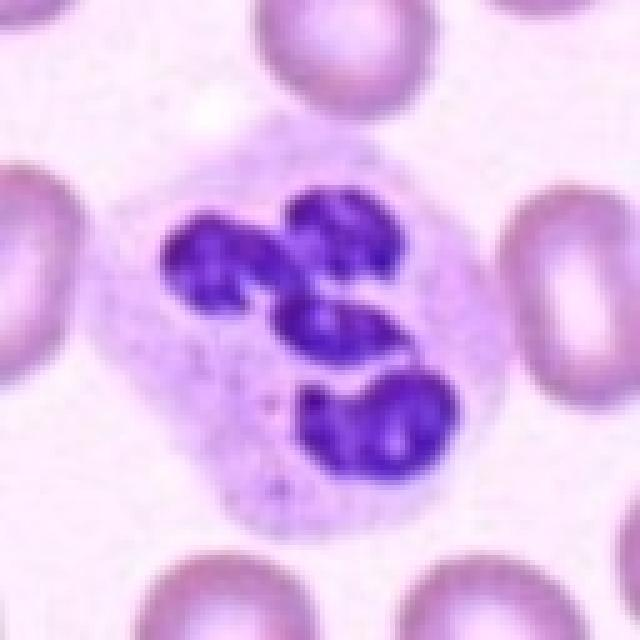neutro: (109, 130, 566, 517)
